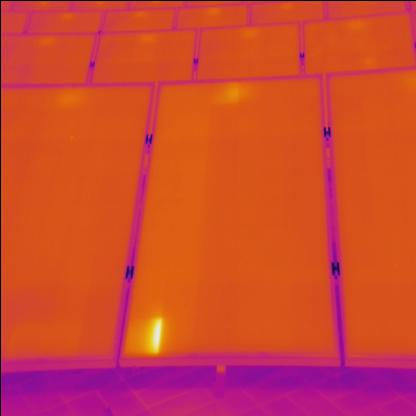hotspot: (123, 316, 164, 362)
